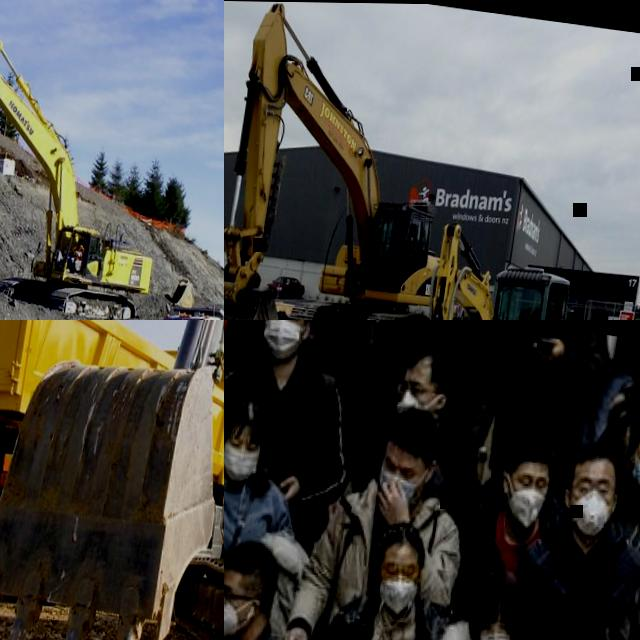Mask: (564, 486, 615, 538), (373, 467, 422, 509), (502, 481, 546, 526), (376, 575, 419, 617), (260, 320, 304, 359), (224, 438, 261, 484), (396, 388, 442, 416), (224, 596, 244, 640), (629, 455, 640, 492), (476, 632, 511, 640)
NO-Hardhat: (468, 561, 526, 622), (382, 406, 444, 459), (403, 333, 462, 383), (224, 534, 283, 583), (376, 515, 428, 560), (570, 433, 622, 475), (224, 381, 271, 425), (504, 430, 557, 469), (628, 409, 640, 444)
NO-Safety Vest: (224, 345, 333, 521), (505, 530, 640, 640), (492, 320, 585, 444), (395, 320, 491, 404), (459, 512, 528, 595), (427, 408, 469, 503), (605, 484, 640, 581), (305, 320, 366, 370)
Person: (290, 393, 476, 640), (476, 422, 640, 640), (343, 326, 492, 545), (224, 320, 366, 549), (447, 427, 580, 640), (462, 320, 609, 501), (224, 371, 314, 640), (289, 506, 456, 640), (358, 320, 504, 450), (391, 553, 591, 640), (576, 477, 640, 640), (595, 403, 640, 589), (297, 320, 373, 423), (595, 336, 640, 506), (592, 332, 640, 430), (224, 320, 267, 379), (66, 237, 86, 272), (510, 304, 541, 320)
Safety Vest: (72, 242, 84, 257)
vehicle: (224, 0, 471, 320), (0, 320, 224, 640), (0, 320, 224, 626), (0, 24, 176, 320), (371, 217, 585, 320), (264, 272, 306, 300)
